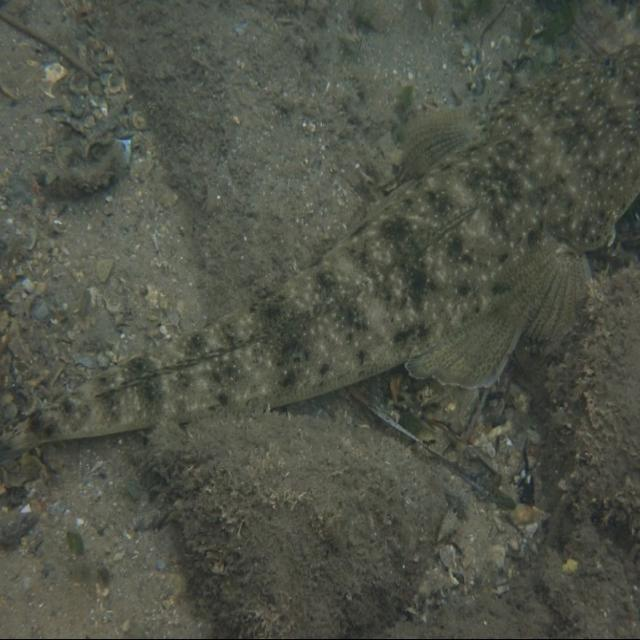Flathead: (8, 32, 640, 488)
